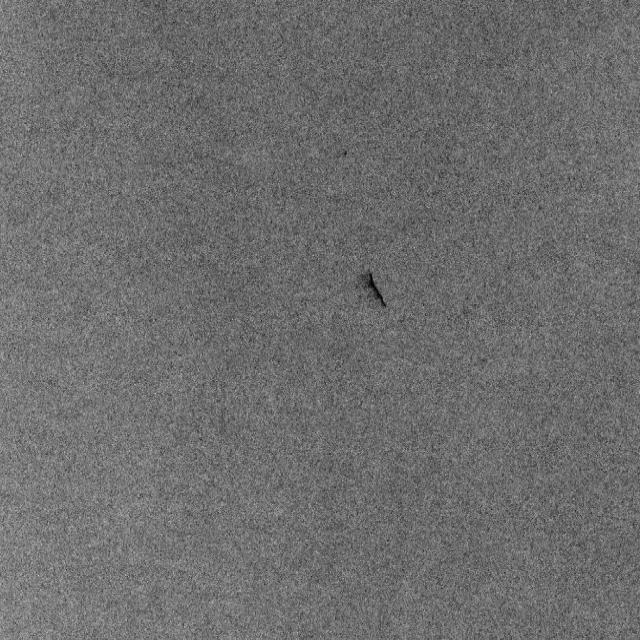oil-spill: (352, 259, 394, 316)
